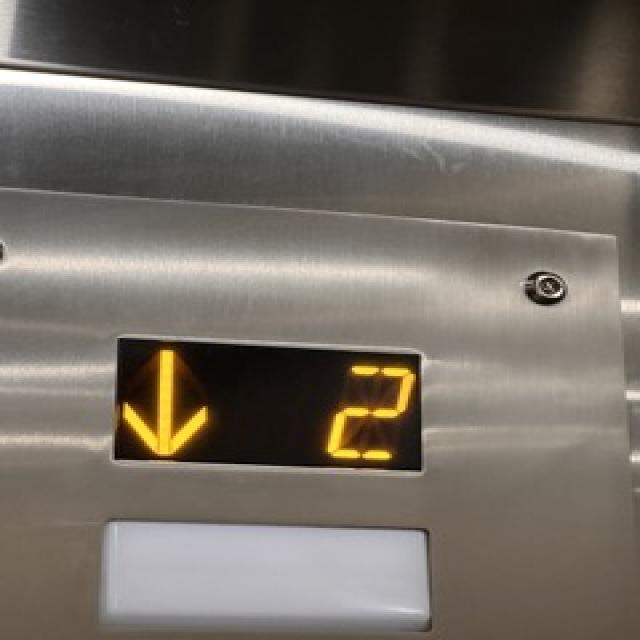box: (88, 312, 464, 492)
